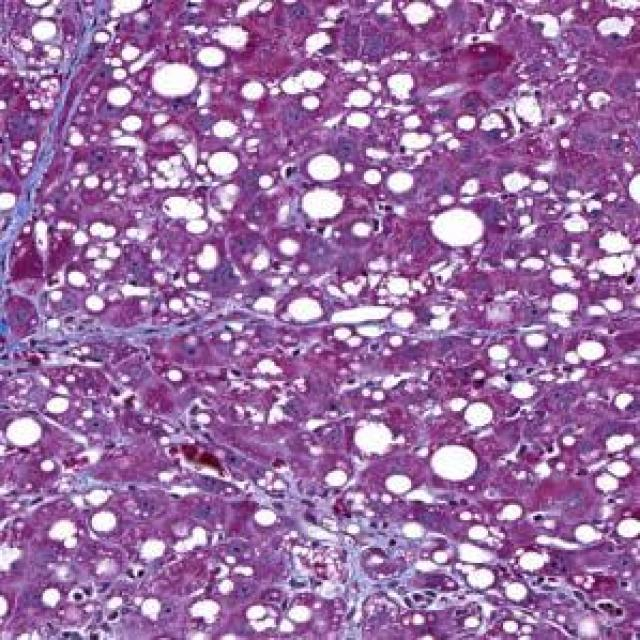fibrosis: (0, 117, 68, 237)
